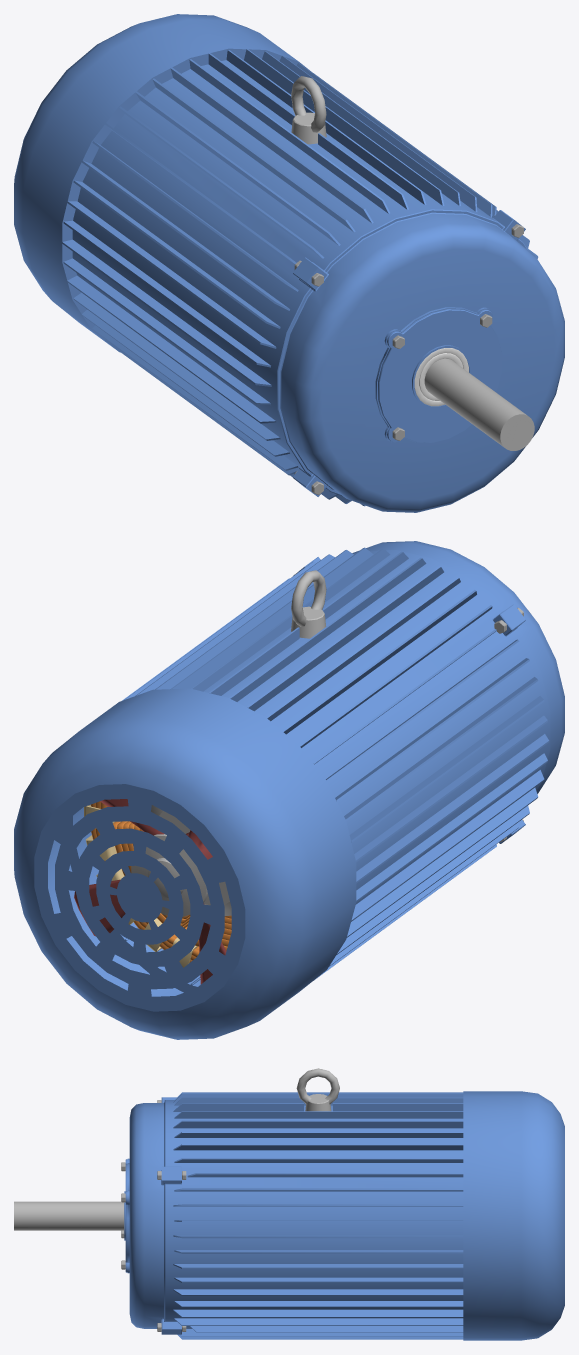
Rendered from 电机s.glb.
3 renders of one model, top to bottom at view 1: azimuth 30°, elevation 25°; view 2: azimuth 150°, elevation 25°; view 3: azimuth 270°, elevation 25°, orthographic. The views are drawn at different scales.
Visible parts, largest first — view 1: 壳, 前盖, 后盖, 电芯, 轴承, 螺丝; view 2: 后盖, 壳, 前盖, 电芯, 风扇, 线圈; view 3: 壳, 后盖, 前盖, 电芯, 螺丝.
Part boxes in pixels (x1,y1,x2,y2): 壳: (62, 49, 538, 506); 前盖: (271, 205, 564, 512); 后盖: (14, 14, 312, 352); 电芯: (424, 358, 534, 450); 轴承: (414, 348, 468, 406); 螺丝: (294, 215, 523, 494); 后盖: (14, 688, 356, 1039); 壳: (73, 547, 549, 986); 前盖: (310, 541, 564, 838); 电芯: (113, 610, 530, 950); 风扇: (74, 799, 226, 984); 线圈: (84, 801, 199, 967); 壳: (173, 1068, 463, 1339); 后盖: (463, 1091, 564, 1340); 前盖: (124, 1097, 173, 1334); 电芯: (14, 1201, 123, 1230); 螺丝: (121, 1100, 186, 1331).
Bounding box in the file's own units: 0.8532 × 0.9871 × 1.9.
